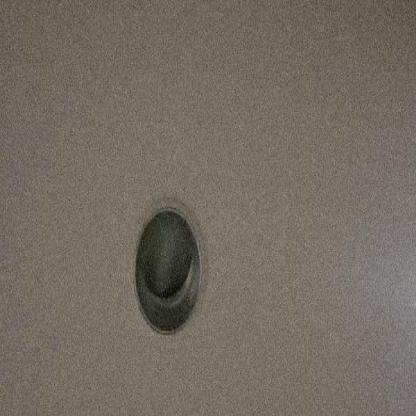light_off: (115, 158, 217, 360)
